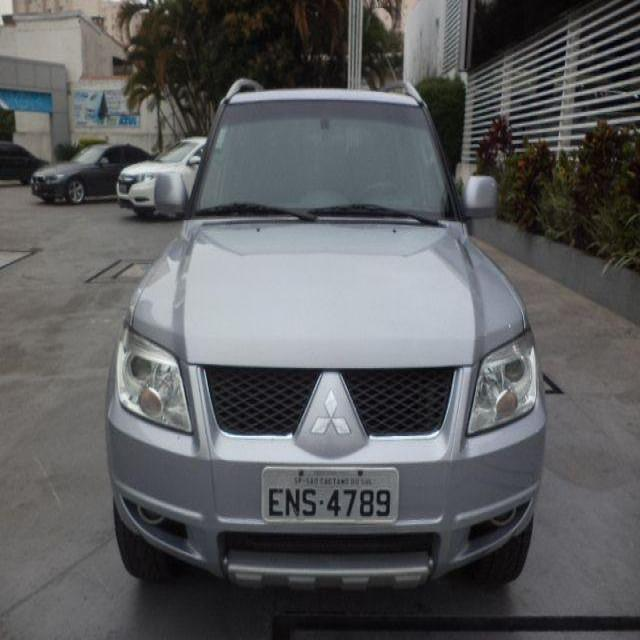Placa: (258, 460, 402, 531)
